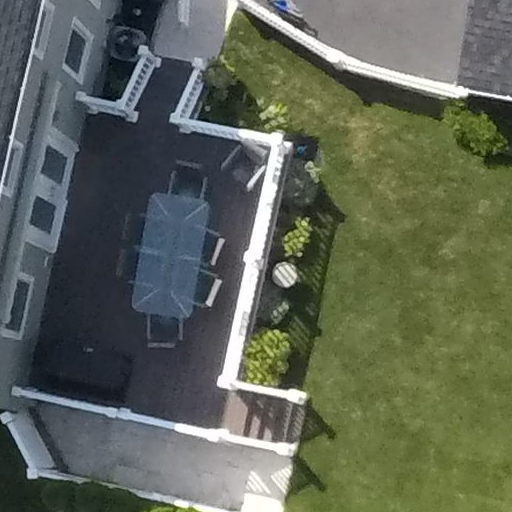air conditioner: (101, 19, 152, 66)
chair: (136, 301, 192, 368), (217, 132, 276, 192), (158, 155, 212, 202), (188, 261, 230, 314), (195, 222, 238, 273)
porch: (12, 39, 313, 460)
